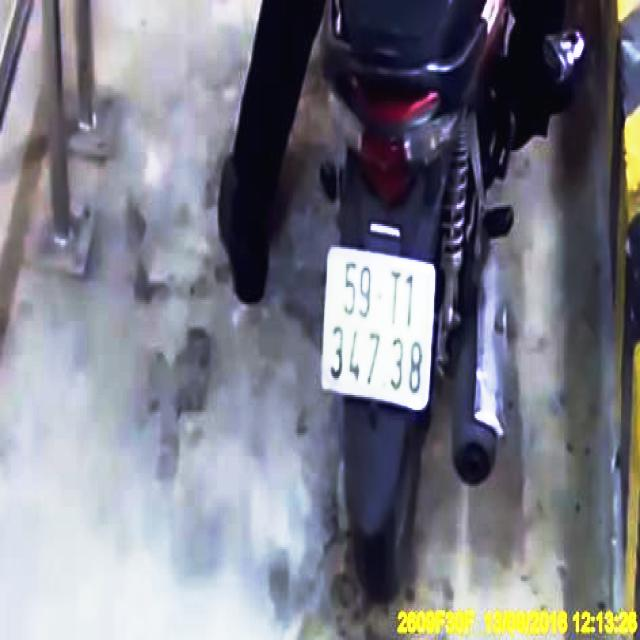license_plate: (324, 249, 435, 412)
